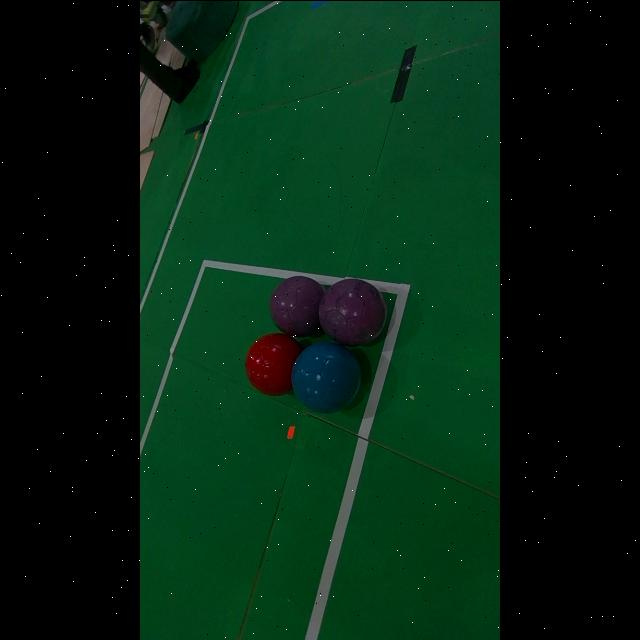B: (292, 340, 360, 412)
P: (319, 277, 387, 345), (271, 274, 325, 335)
R: (245, 332, 302, 395)
